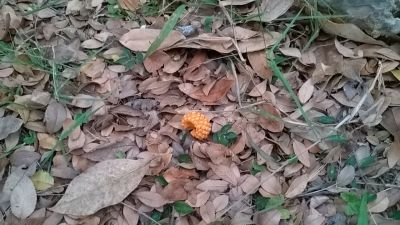eggs: (182, 109, 212, 140)
